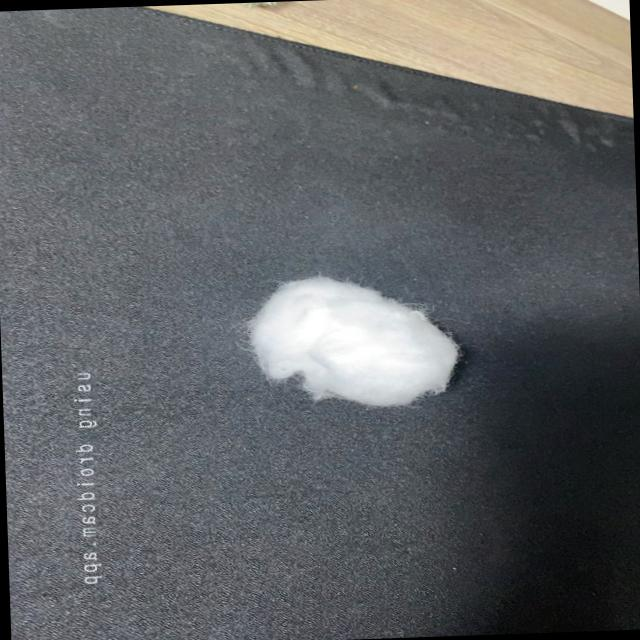cotton: (232, 262, 477, 416)
